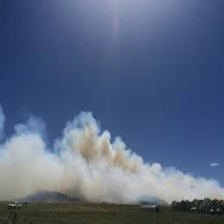smoke: (1, 116, 222, 201)
